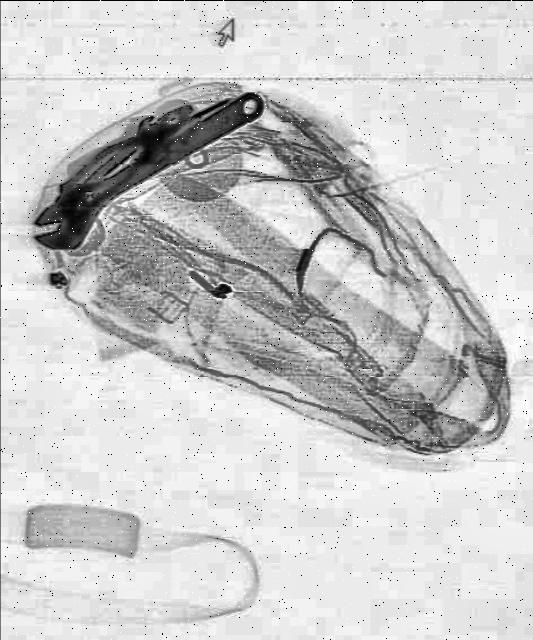Pliers: (54, 84, 206, 216)
Wrench: (25, 69, 271, 264)
